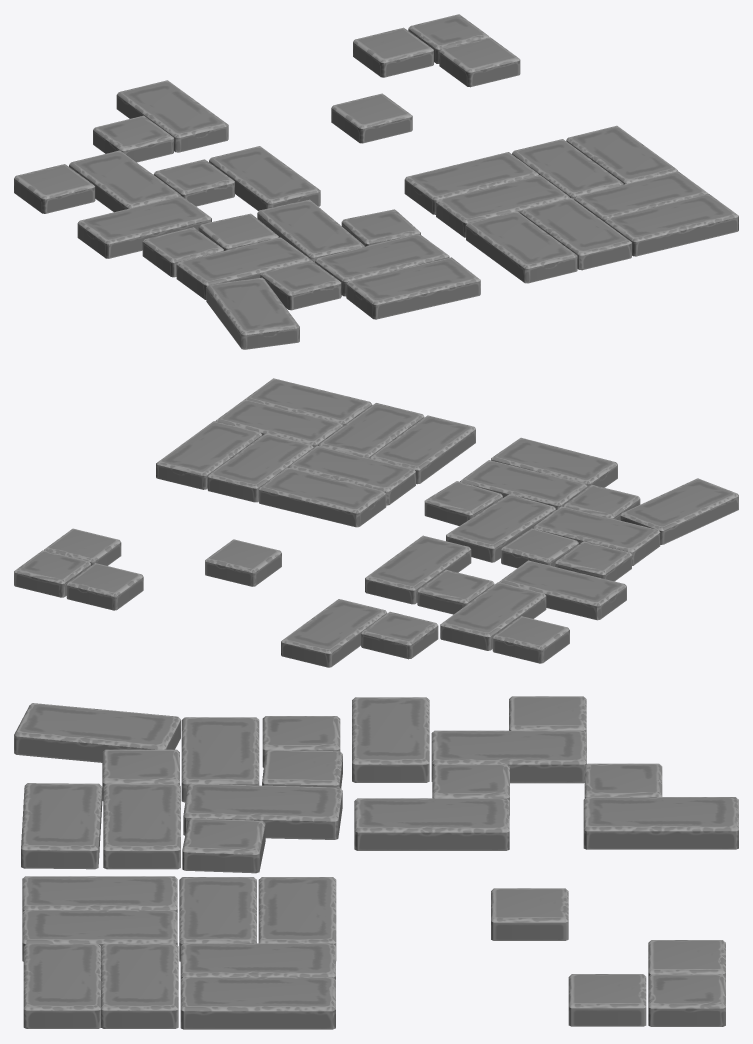
File: stepping_stones.glb
3 renders of one model, top to bottom at view 1: azimuth 30°, elevation 25°; view 2: azimuth 150°, elevation 25°; view 3: azimuth 270°, elevation 25°, orthographic. The views are drawn at different scales.
Parts seen in each view (by area): view 1: SteppingStone_Variation_02; view 2: SteppingStone_Variation_02; view 3: SteppingStone_Variation_02.
Boxes of the visible parts, x1,y1,x2,y2 form: SteppingStone_Variation_02: (14, 14, 738, 349); SteppingStone_Variation_02: (14, 378, 738, 667); SteppingStone_Variation_02: (14, 696, 738, 1029).
Bounding box in the file's own units: 955 × 30 × 934.
Materials: 1 (1 with a texture image).
